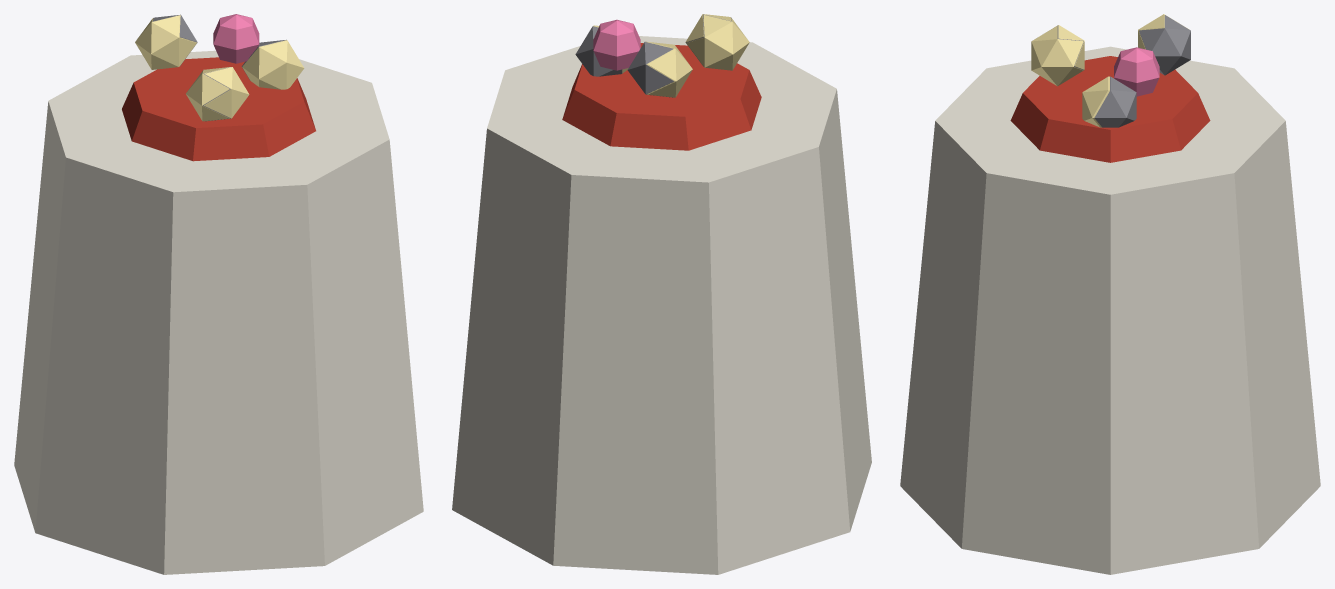
The model's file is floor_popcorn_bag.glb.
3 views of the same model, side by side, from view 1: azimuth 30°, elevation 25°; view 2: azimuth 150°, elevation 25°; view 3: azimuth 270°, elevation 25° (orthographic). The views are drawn at different scales.
Visible parts, largest first — view 1: sack_sack_white, tie_sack_tie, corn_popcorn, gum_gum_pink, corn_fluff; view 2: sack_sack_white, tie_sack_tie, corn_popcorn, corn_fluff, gum_gum_pink; view 3: sack_sack_white, tie_sack_tie, corn_popcorn, corn_fluff, gum_gum_pink.
Boxes of the visible parts, x1,y1,x2,y2 form: sack_sack_white: [14, 50, 423, 574]; tie_sack_tie: [122, 57, 315, 161]; corn_popcorn: [135, 15, 304, 121]; gum_gum_pink: [213, 14, 259, 63]; corn_fluff: [152, 14, 286, 121]; sack_sack_white: [452, 36, 871, 574]; tie_sack_tie: [562, 43, 761, 150]; corn_popcorn: [593, 14, 749, 97]; corn_fluff: [575, 14, 731, 97]; gum_gum_pink: [593, 19, 640, 70]; sack_sack_white: [900, 46, 1320, 574]; tie_sack_tie: [1010, 56, 1210, 162]; corn_popcorn: [1031, 14, 1187, 127]; corn_fluff: [1057, 15, 1190, 127]; gum_gum_pink: [1114, 47, 1159, 96].
Bounding box in the file's own units: 0.48 × 0.57 × 0.48.
